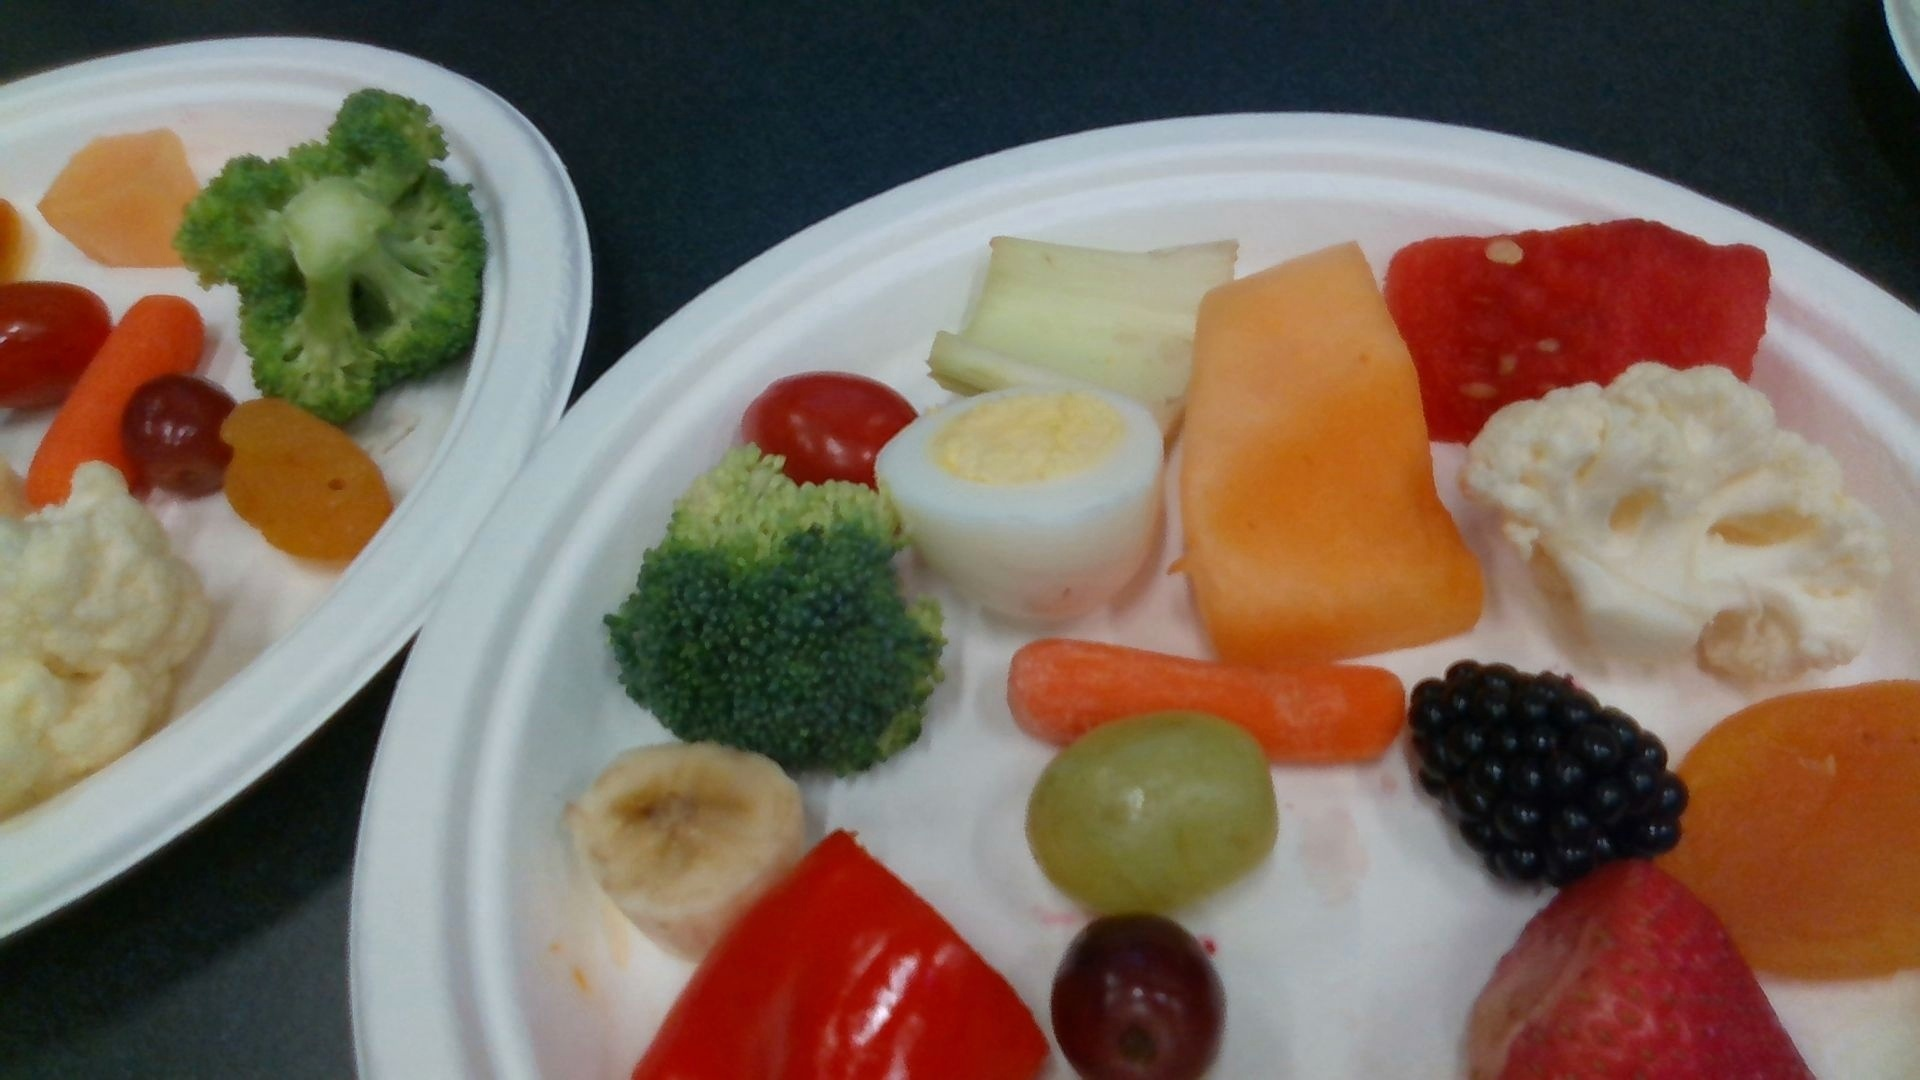apricot: (1654, 680, 1920, 978), (220, 401, 396, 564)
banana: (575, 742, 800, 951)
bell_pepper: (634, 831, 1054, 1080)
blackberry: (1412, 665, 1689, 878)
broccoli: (609, 446, 945, 773), (182, 94, 487, 411)
cantalope: (1180, 243, 1484, 659), (40, 131, 195, 262)
carrot: (1007, 637, 1403, 765), (24, 295, 202, 506)
cauliflower: (1464, 365, 1887, 680), (1, 465, 204, 812)
celery: (928, 236, 1237, 430)
cherry_tomato: (744, 376, 919, 477), (1, 286, 109, 402)
egg: (874, 385, 1162, 615)
grape_green: (1029, 713, 1275, 907)
grape_purple: (1052, 915, 1224, 1080), (124, 376, 233, 495)
melon: (1387, 223, 1770, 436)
strawberry: (1472, 862, 1815, 1080)
